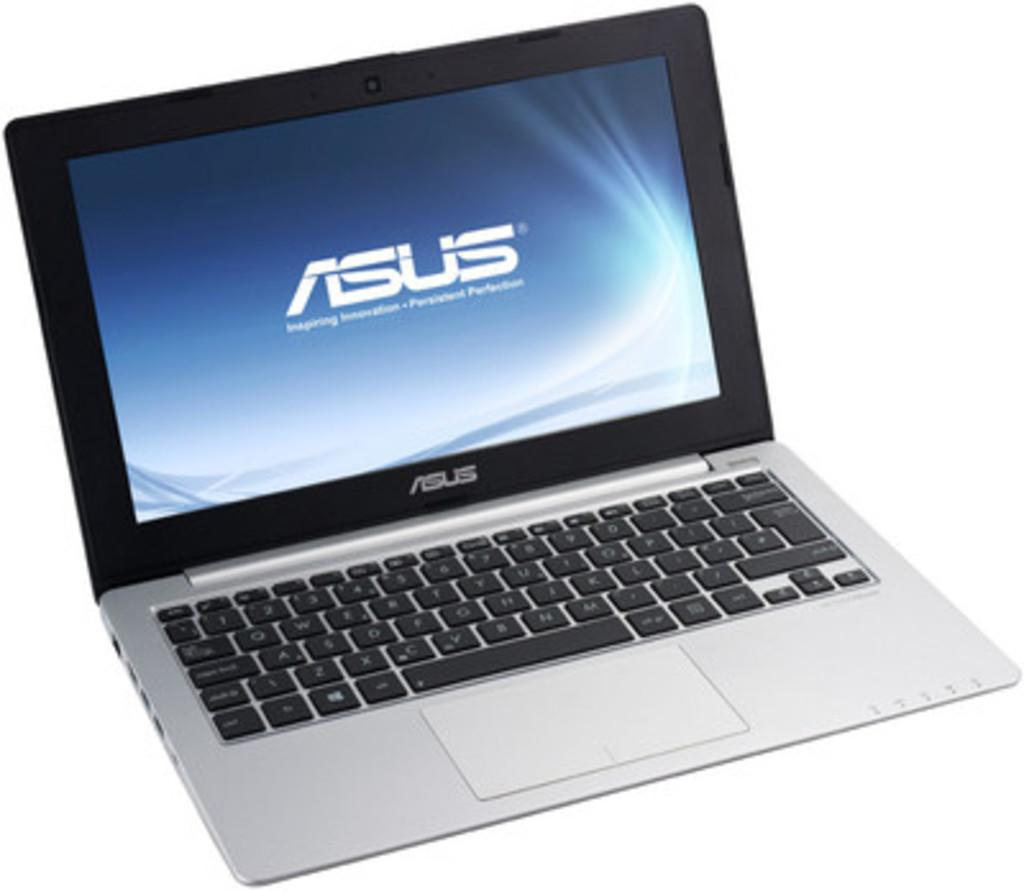Laptop: (0, 0, 1024, 883)
